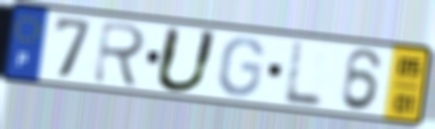6: (339, 47, 383, 115)
7: (51, 14, 97, 81)
G: (215, 36, 266, 99)
L: (281, 40, 325, 110)
R: (91, 19, 149, 90)
U: (151, 24, 222, 95)
